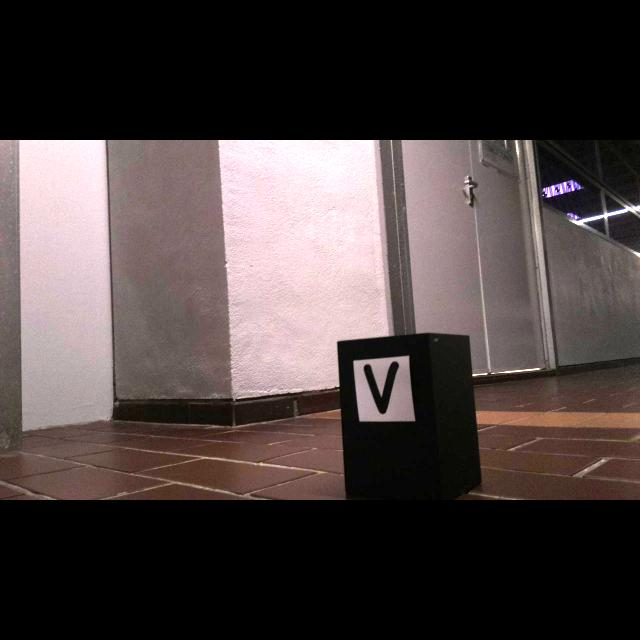V: (364, 361, 399, 414)
